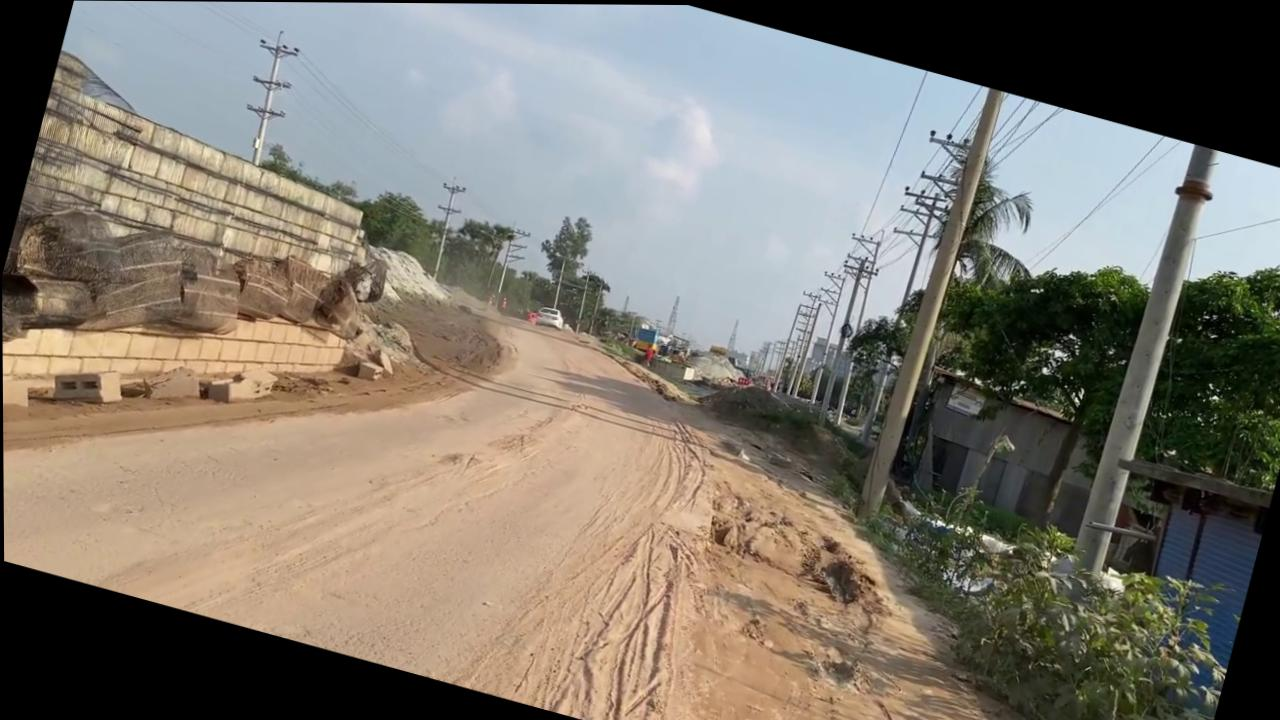Car: (532, 303, 566, 331)
Muddy road: (1, 175, 1181, 720)
Obstacle: (47, 353, 128, 415), (354, 358, 383, 383)
Pole: (1062, 137, 1225, 586), (848, 79, 1007, 529)
Traffic-sign: (524, 206, 597, 313)
Tree: (628, 320, 693, 365), (655, 330, 693, 365)
Upstairs: (0, 47, 418, 494)
